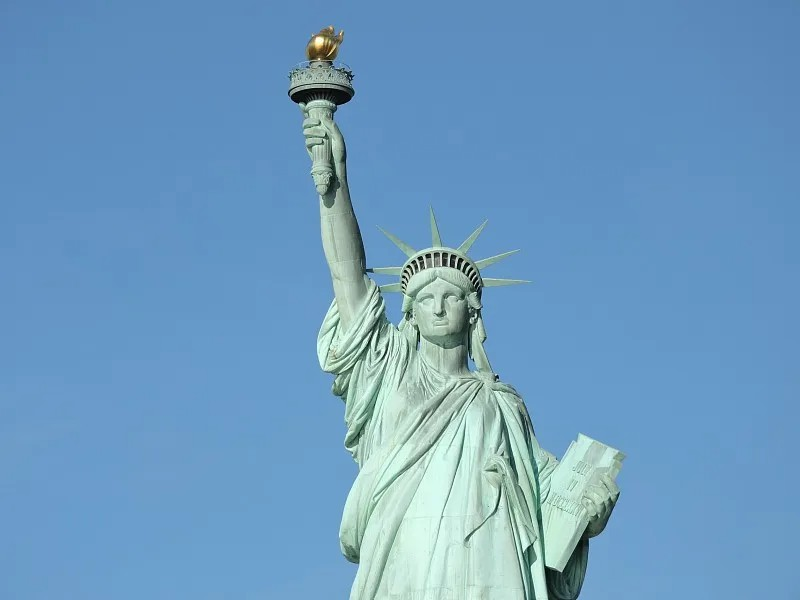SL: (287, 23, 627, 600)
